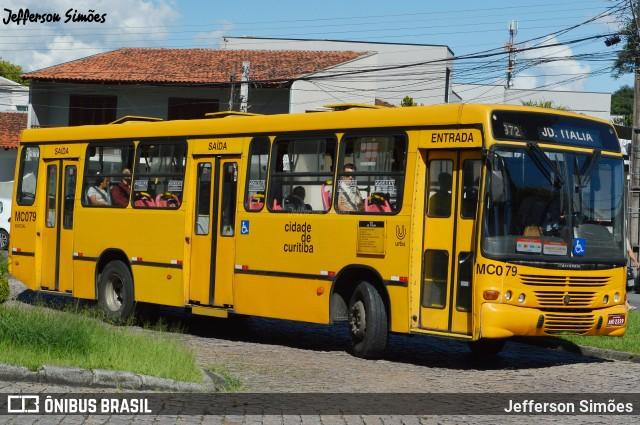JD ITALIA: (536, 122, 596, 146)
